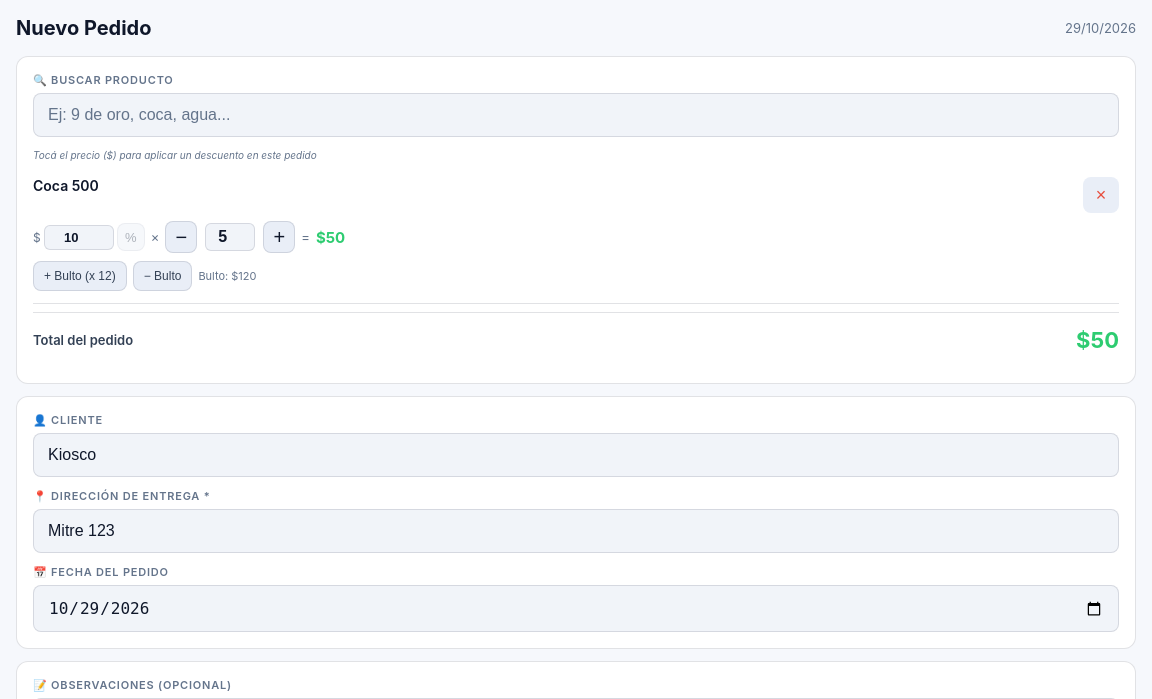
Test: REQ-BUL Nuevo Pedido › AC-BUL-3 "− Bulto" desde 5 deja 1 y el renglón sigue existiendo
Click the button with test id "bulto-menos" at (163, 276), box [133,261,192,291]
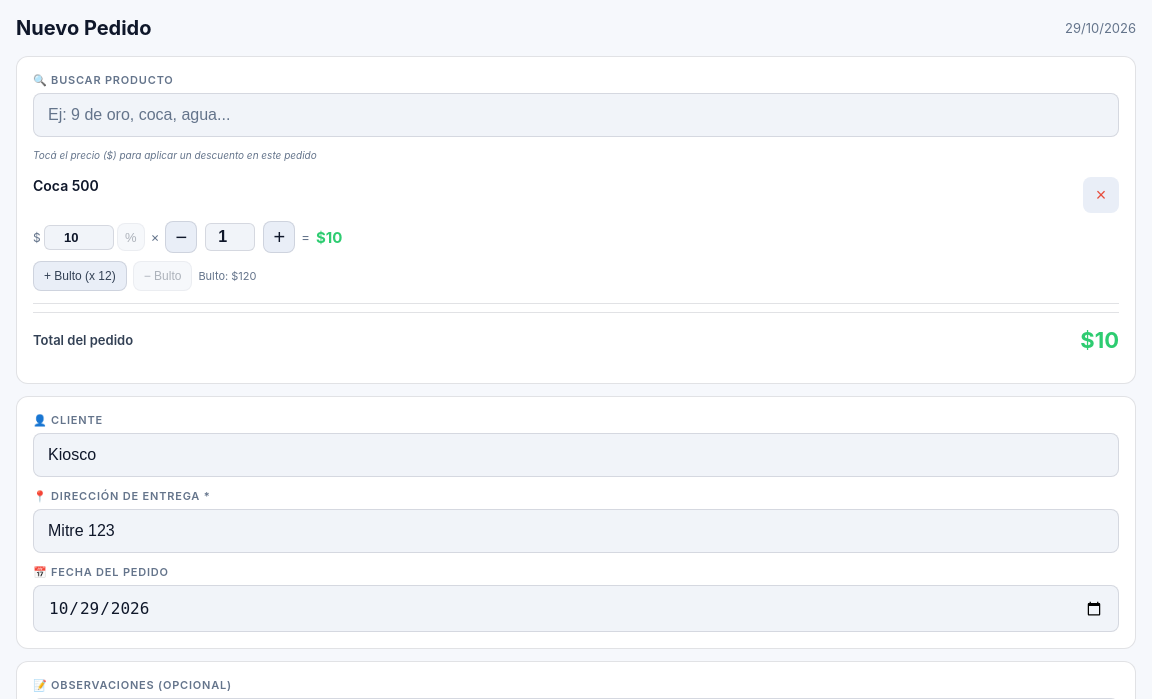
Expected: the text "Coca 500" is shown, [33,177,99,194]
Result: the 2nd number field holds "1" at [205,223,255,251]
Result: the button with test id "bulto-menos" is disabled at [133,261,192,291]
